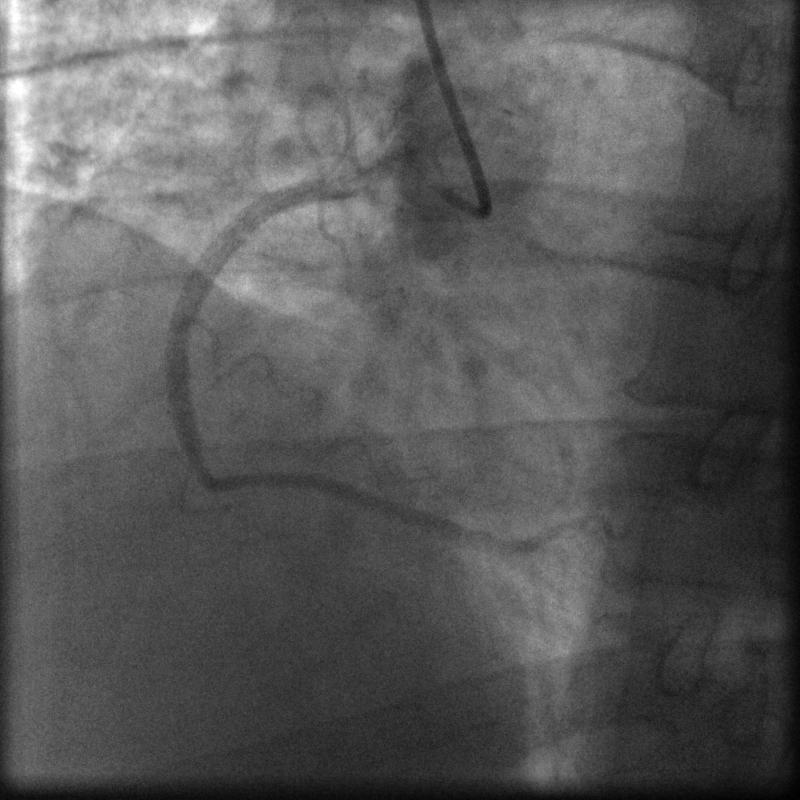Stenosis: (175, 431, 214, 493)
